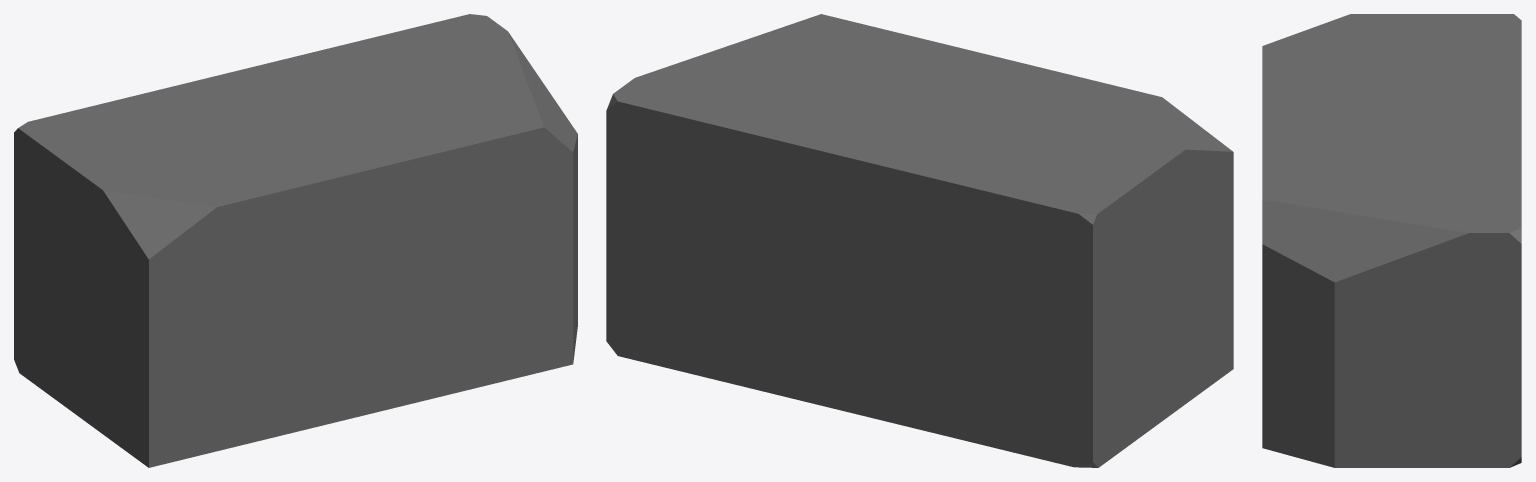
Rendered from Brick_02.fbx.
3 renders of one model, left to right at view 1: azimuth 30°, elevation 25°; view 2: azimuth 150°, elevation 25°; view 3: azimuth 270°, elevation 25°, orthographic. The views are drawn at different scales.
Visible parts, largest first — view 1: Brick_02_LOD0; view 2: Brick_02_LOD0; view 3: Brick_02_LOD0.
Part boxes in pixels (bbox=[...]): Brick_02_LOD0: bbox=[14, 14, 577, 467]; Brick_02_LOD0: bbox=[606, 14, 1233, 467]; Brick_02_LOD0: bbox=[1262, 14, 1521, 467].
Size of what is drawn, in the model's own units: 0.7598 by 0.3799 by 0.3799.
